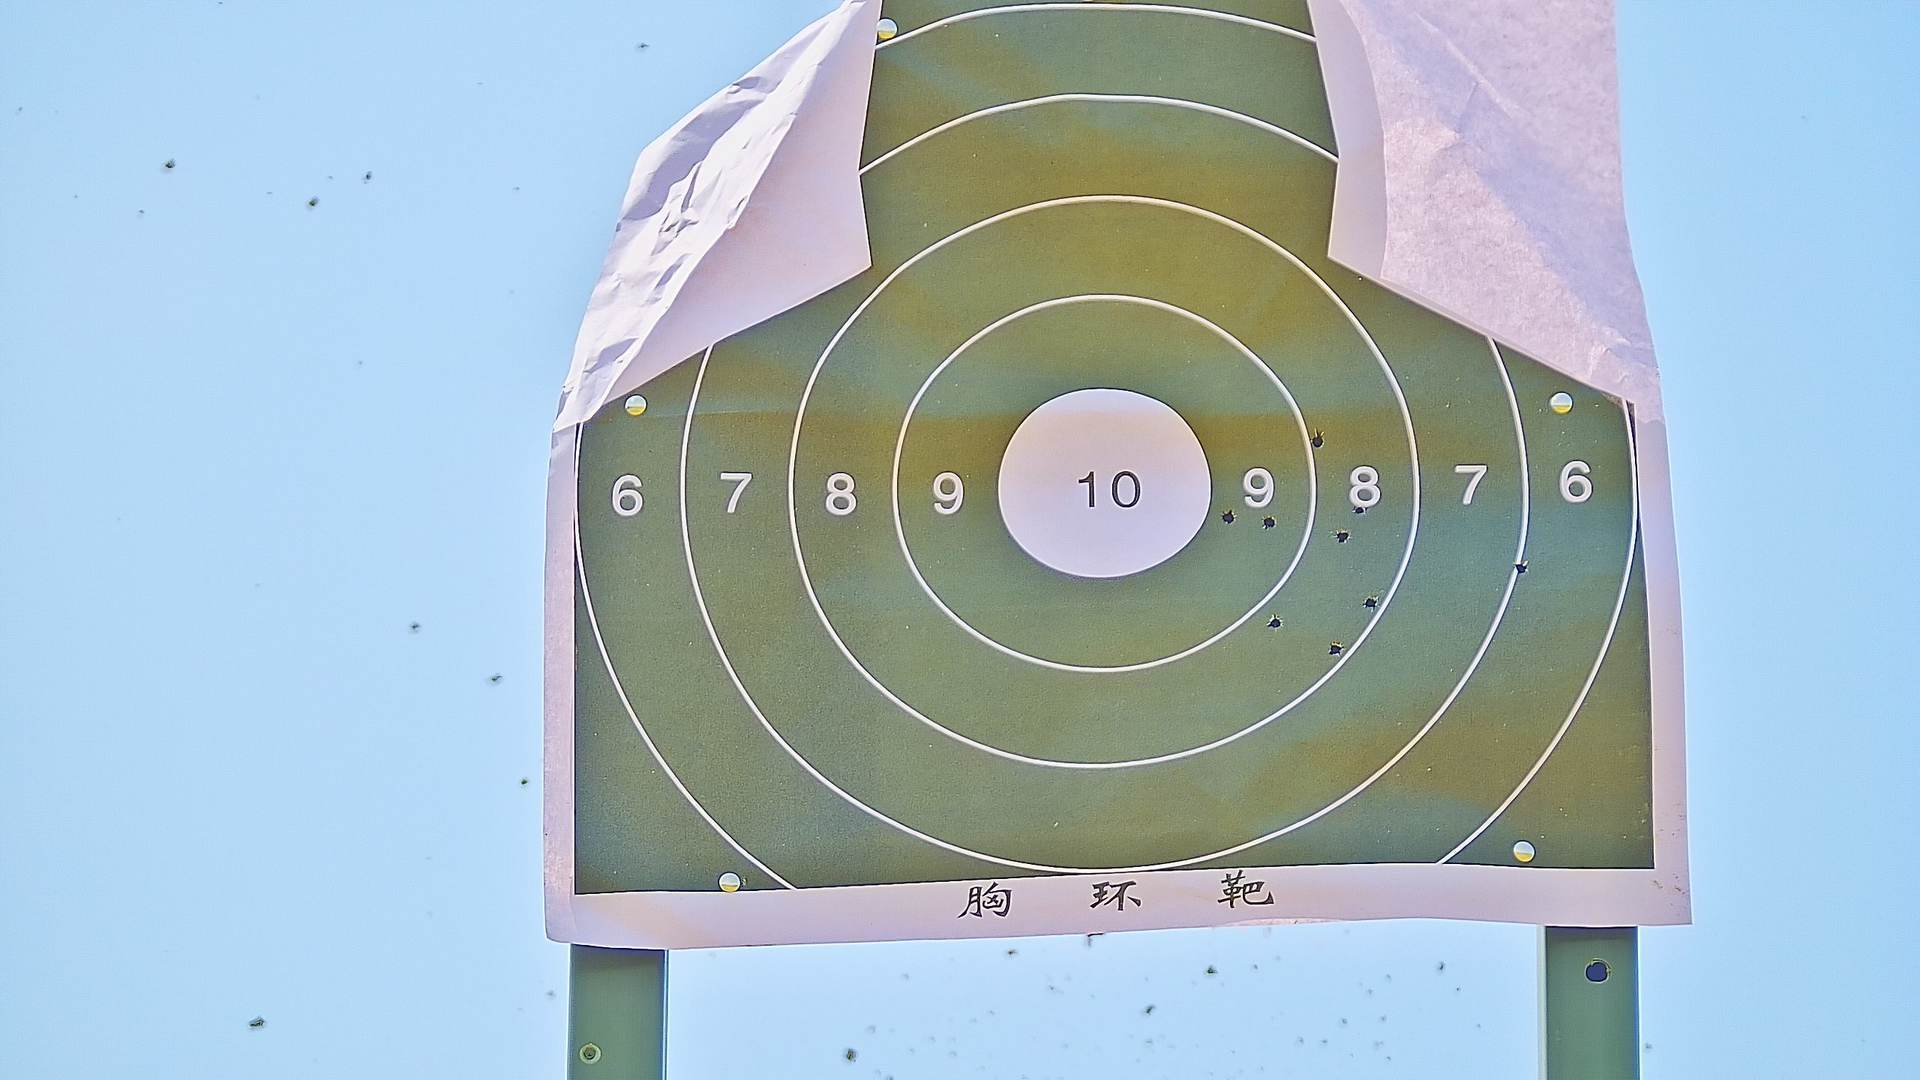hole: (1309, 433, 1327, 448), (1336, 527, 1352, 545), (1329, 640, 1344, 657), (1364, 596, 1378, 611), (1220, 510, 1236, 524), (1269, 616, 1284, 629), (1353, 502, 1367, 516), (1263, 516, 1276, 529), (1516, 562, 1530, 575)
kernel: (1102, 488, 1105, 492)
target: (571, 7, 1658, 895)
ten: (997, 385, 1217, 582)
